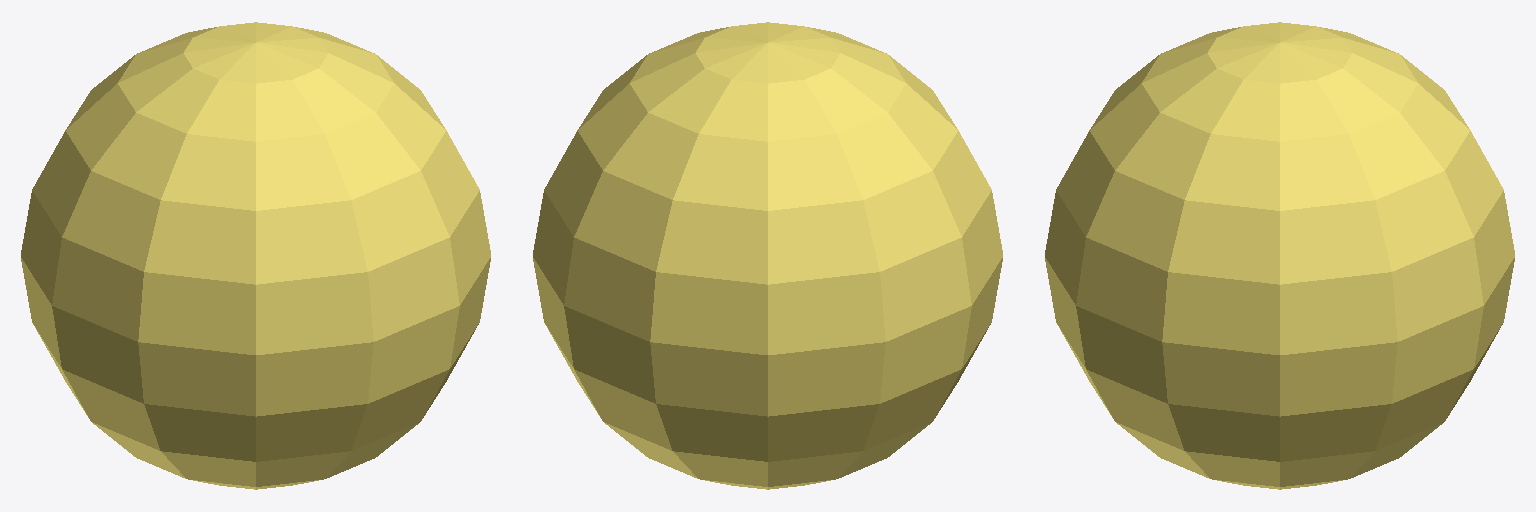
3 views of the same model, side by side, from view 1: azimuth 30°, elevation 25°; view 2: azimuth 150°, elevation 25°; view 3: azimuth 270°, elevation 25° (orthographic).
Visible parts, largest first — view 1: Sphere.001; view 2: Sphere.001; view 3: Sphere.001.
Part boxes in pixels (left/top/right/bottom): Sphere.001: left=21, top=22, right=490, bottom=489; Sphere.001: left=533, top=22, right=1002, bottom=489; Sphere.001: left=1045, top=22, right=1514, bottom=489.
Bounding box in the file's own units: 3.42 × 3.42 × 3.42.
1 materials, 1 textured.